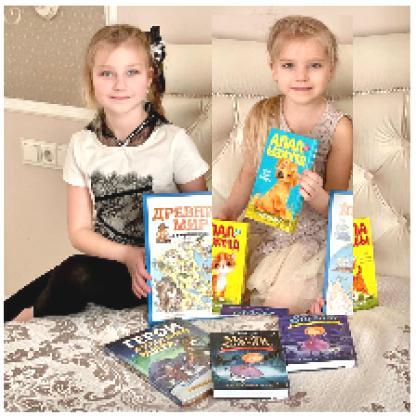child: (5, 25, 211, 322), (213, 16, 355, 317)
